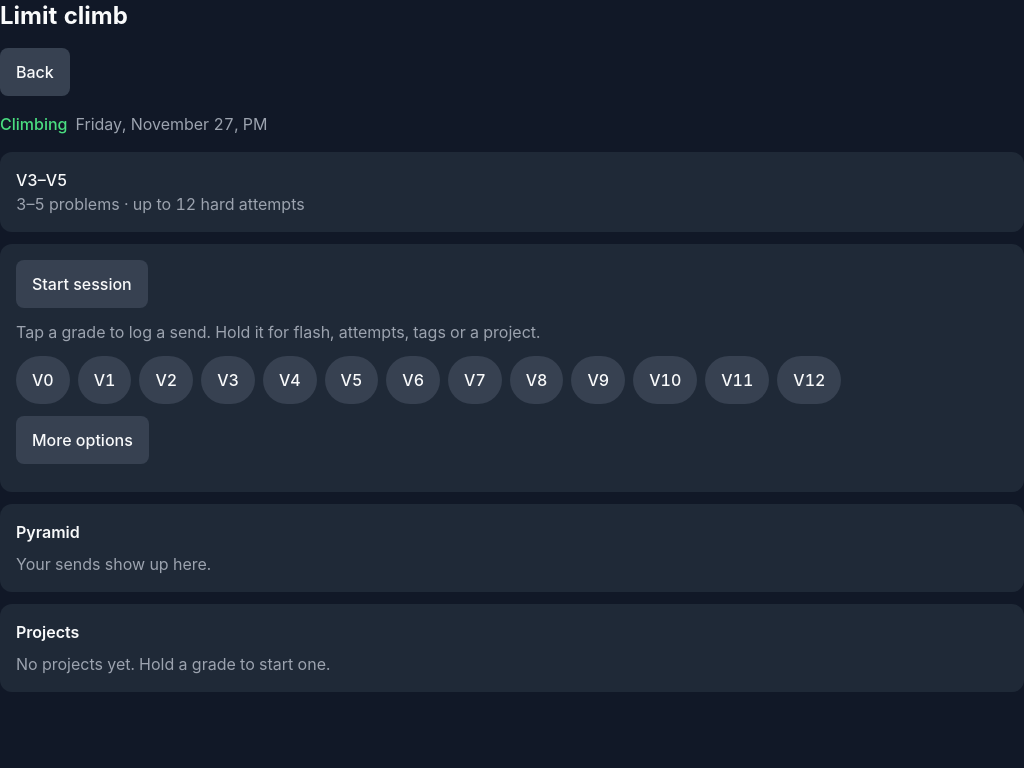
ClimbPlayer › shows the plan and updates the pyramid live as grades are tapped
expect the text "V3–V5" is shown: met, box [16,170,67,190]
expect the text "3–5 problems · up to 12 hard attempts" is shown: met, box [16,194,305,214]
Click the button "V3" at (228, 380), box [201,356,255,404]
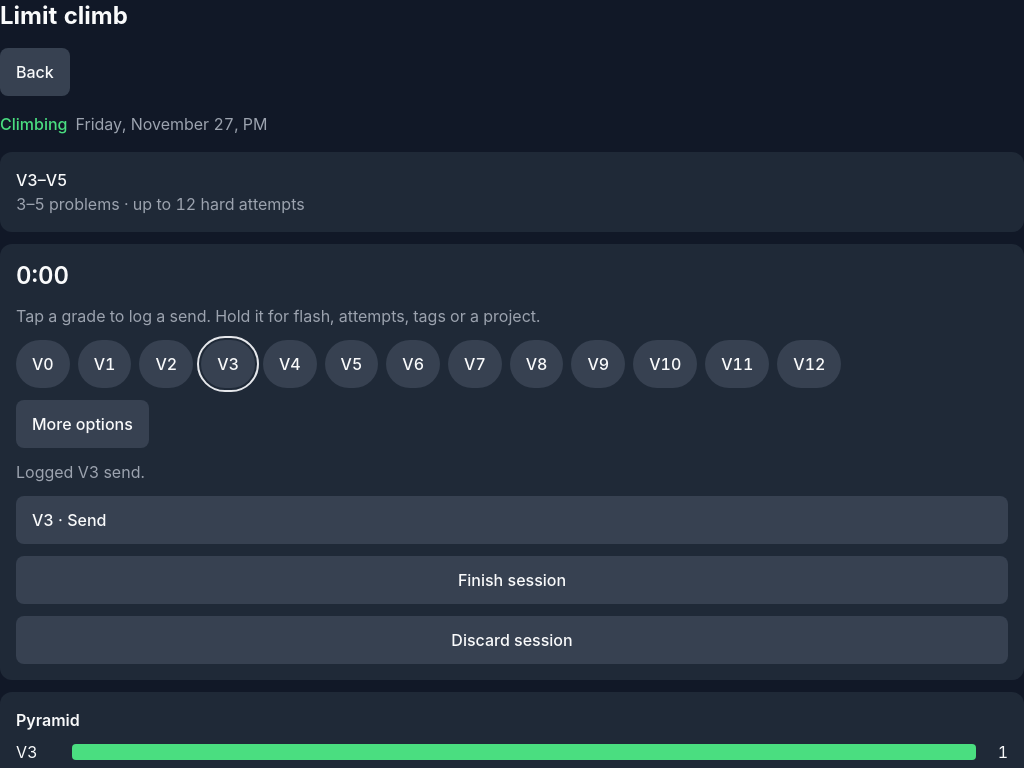
expect the list item named "V3: 1 send" is shown: met, box [16,740,1008,764]
expect the text "0:00" is shown: met, box [16,261,69,290]
expect the message reads "Logged V3 send.": met, box [16,462,145,482]
Click the button "V5" at (351, 364), box [325,340,378,388]
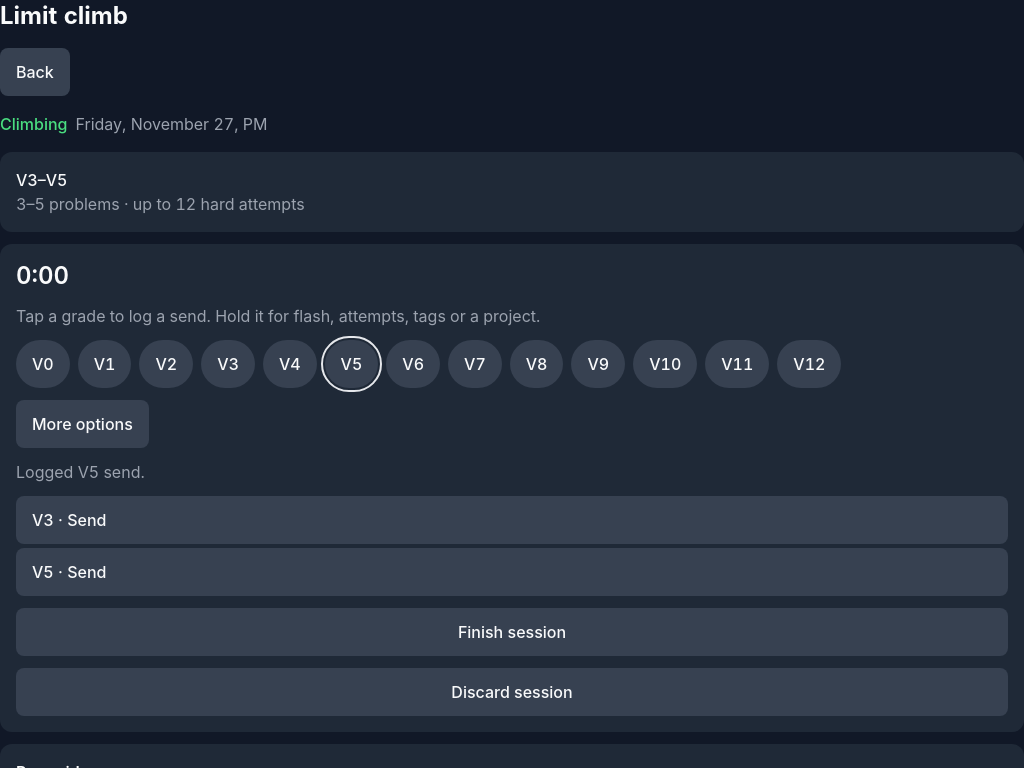
Click the button "V3" at (228, 364), box [201,340,255,388]
(page scrolled)
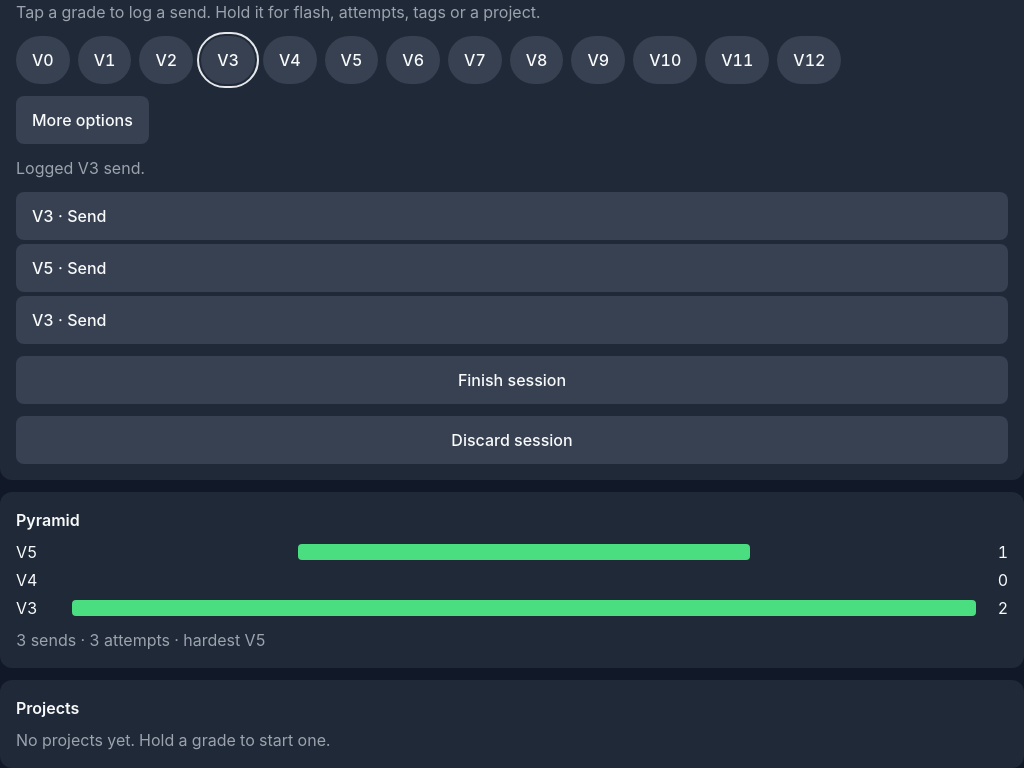
expect the list item named "V4: 0 sends" is shown: met, box [16,568,1008,592]
expect the list item named "V5: 1 send" is shown: met, box [16,540,1008,564]
expect the list item named "V3: 2 sends" is shown: met, box [16,596,1008,620]
